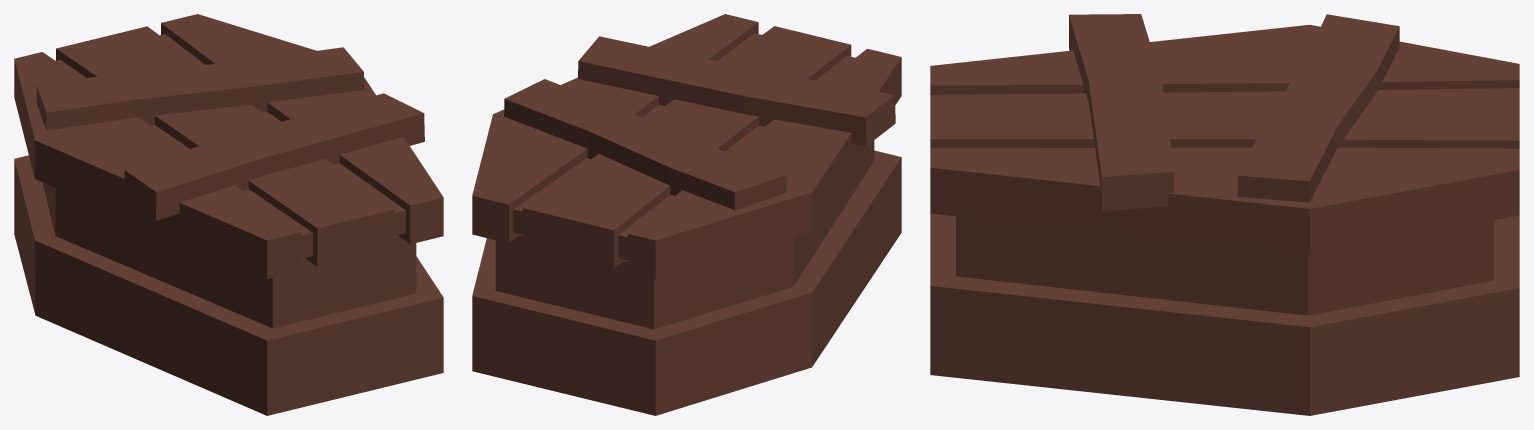
Rendered from coffin.glb.
The picture shows the model from 3 angles, left to right: view 1: azimuth 30°, elevation 25°; view 2: azimuth 150°, elevation 25°; view 3: azimuth 270°, elevation 25°; orthographic projection. The views are drawn at different scales.
Visible parts, largest first — view 1: coffin; view 2: coffin; view 3: coffin.
Part boxes in pixels (box(x1,y1,x2,y2)): coffin: box(14, 14, 443, 415); coffin: box(472, 14, 901, 415); coffin: box(930, 14, 1519, 415).
Bounding box in the file's own units: 0.913 × 0.5278 × 1.23.
Materials: 1 (1 with a texture image).
